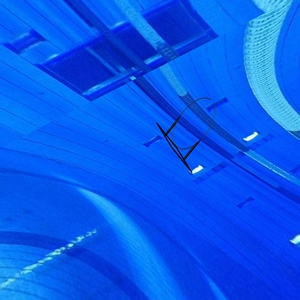circle: (153, 95, 222, 174)
